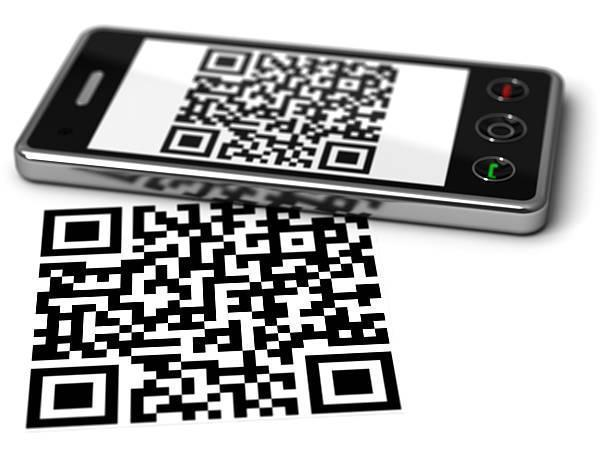qr_code: (26, 201, 402, 429), (160, 48, 398, 175)
